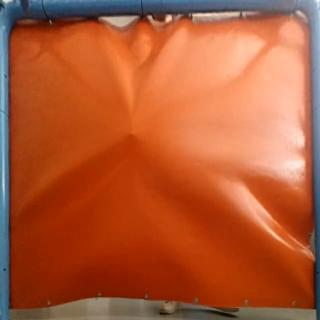Hit-hRxx: (124, 126, 142, 140)
